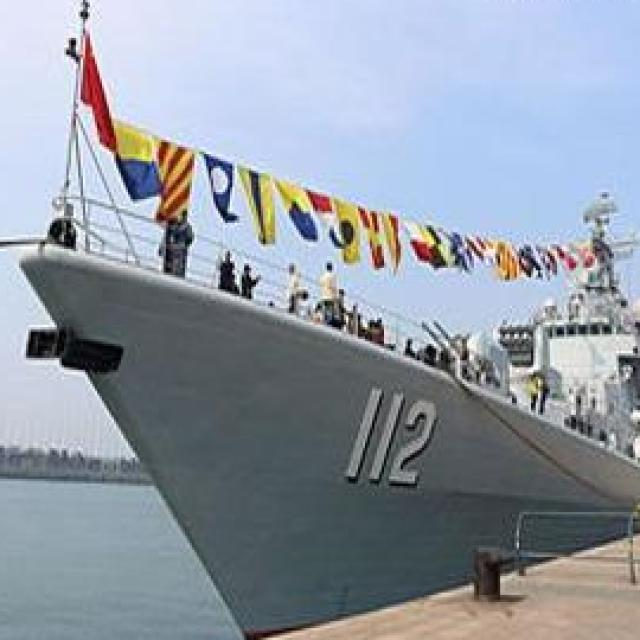navalvessels: (14, 178, 640, 628)
